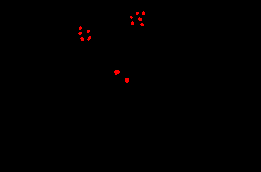Target: (114, 70, 120, 75), (87, 36, 91, 41), (125, 78, 129, 83), (138, 17, 142, 21), (80, 37, 84, 41), (142, 11, 145, 15), (131, 21, 134, 25), (140, 23, 144, 26), (79, 26, 82, 30), (78, 32, 82, 35), (136, 12, 139, 15), (130, 16, 133, 19), (87, 30, 90, 33)
